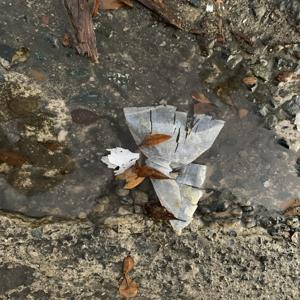plastic: (126, 94, 223, 231), (99, 130, 144, 180)
